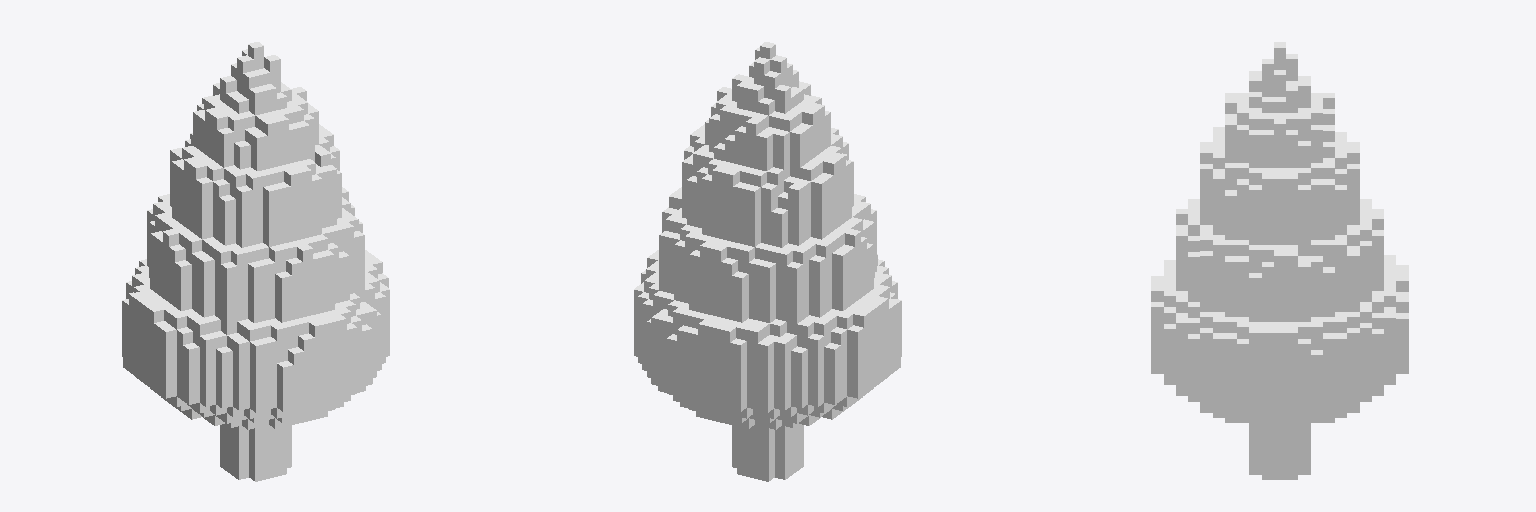
File: Sapin_3_neige.obj
3 renders of one model, left to right at view 1: azimuth 30°, elevation 25°; view 2: azimuth 150°, elevation 25°; view 3: azimuth 270°, elevation 25°, orthographic.
Bounding box in the file's own units: 21 × 38 × 21.